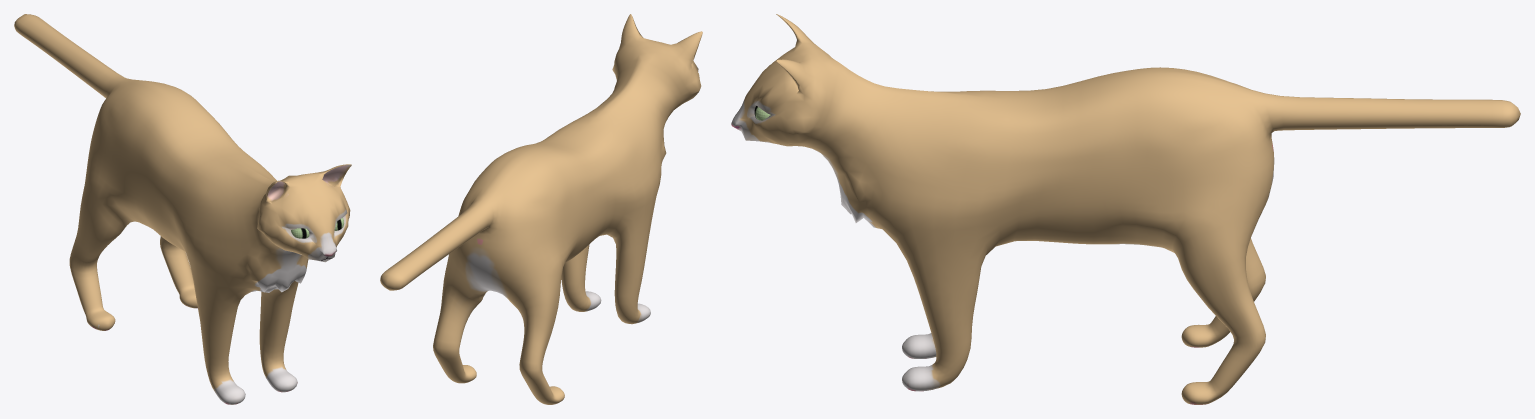
The model's file is Cat_static.fbx.
3 renders of one model, left to right at view 1: azimuth 30°, elevation 25°; view 2: azimuth 150°, elevation 25°; view 3: azimuth 270°, elevation 25°, orthographic. The views are drawn at different scales.
Parts seen in each view (by area): view 1: CatLowPoly; view 2: CatLowPoly; view 3: CatLowPoly.
Part boxes in pixels (x1=…): CatLowPoly: x1=14, y1=14, x2=351, y2=404; CatLowPoly: x1=380, y1=14, x2=702, y2=404; CatLowPoly: x1=731, y1=14, x2=1520, y2=404.
Bounding box in the file's own units: 45.73 × 99.91 × 212.
